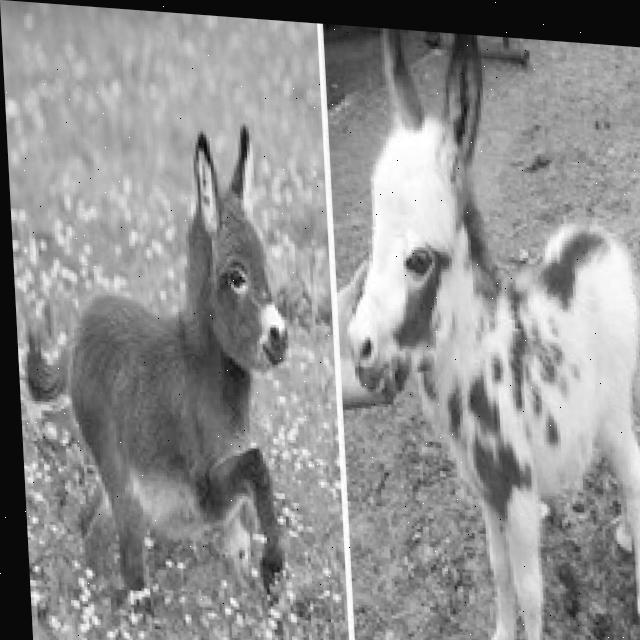Donkey: (328, 24, 640, 640), (8, 106, 303, 626)
